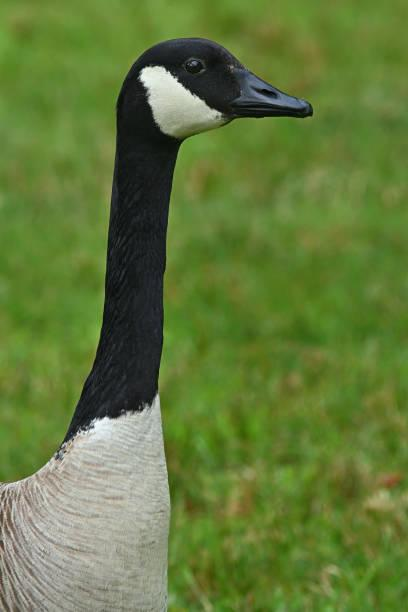Canadian-Goose: (0, 30, 311, 612)
